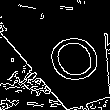O_S: (36, 28, 104, 91)
